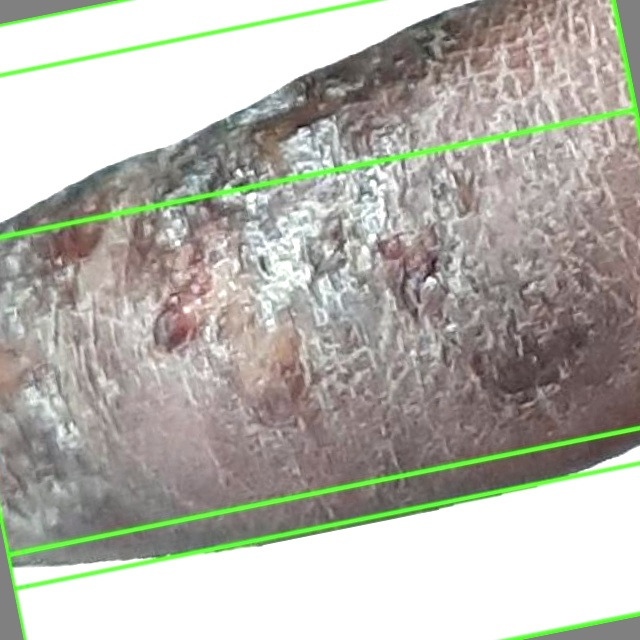Eczema: (0, 0, 639, 590), (0, 0, 636, 237), (7, 429, 639, 639)
